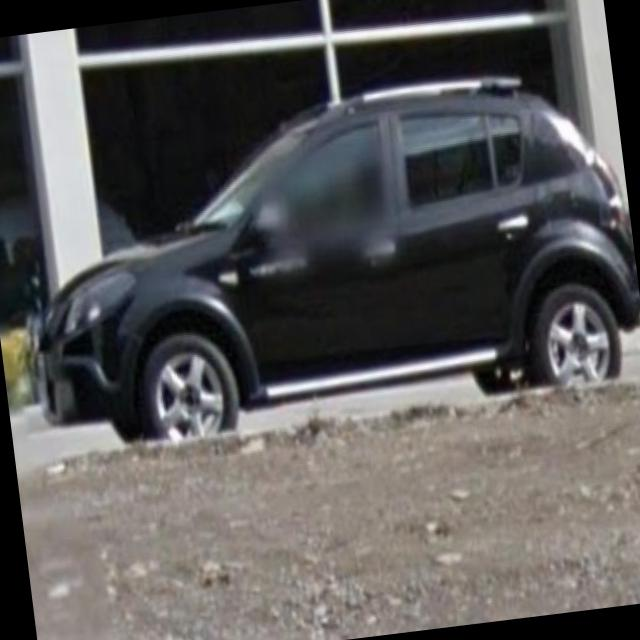car: (0, 63, 640, 456)
